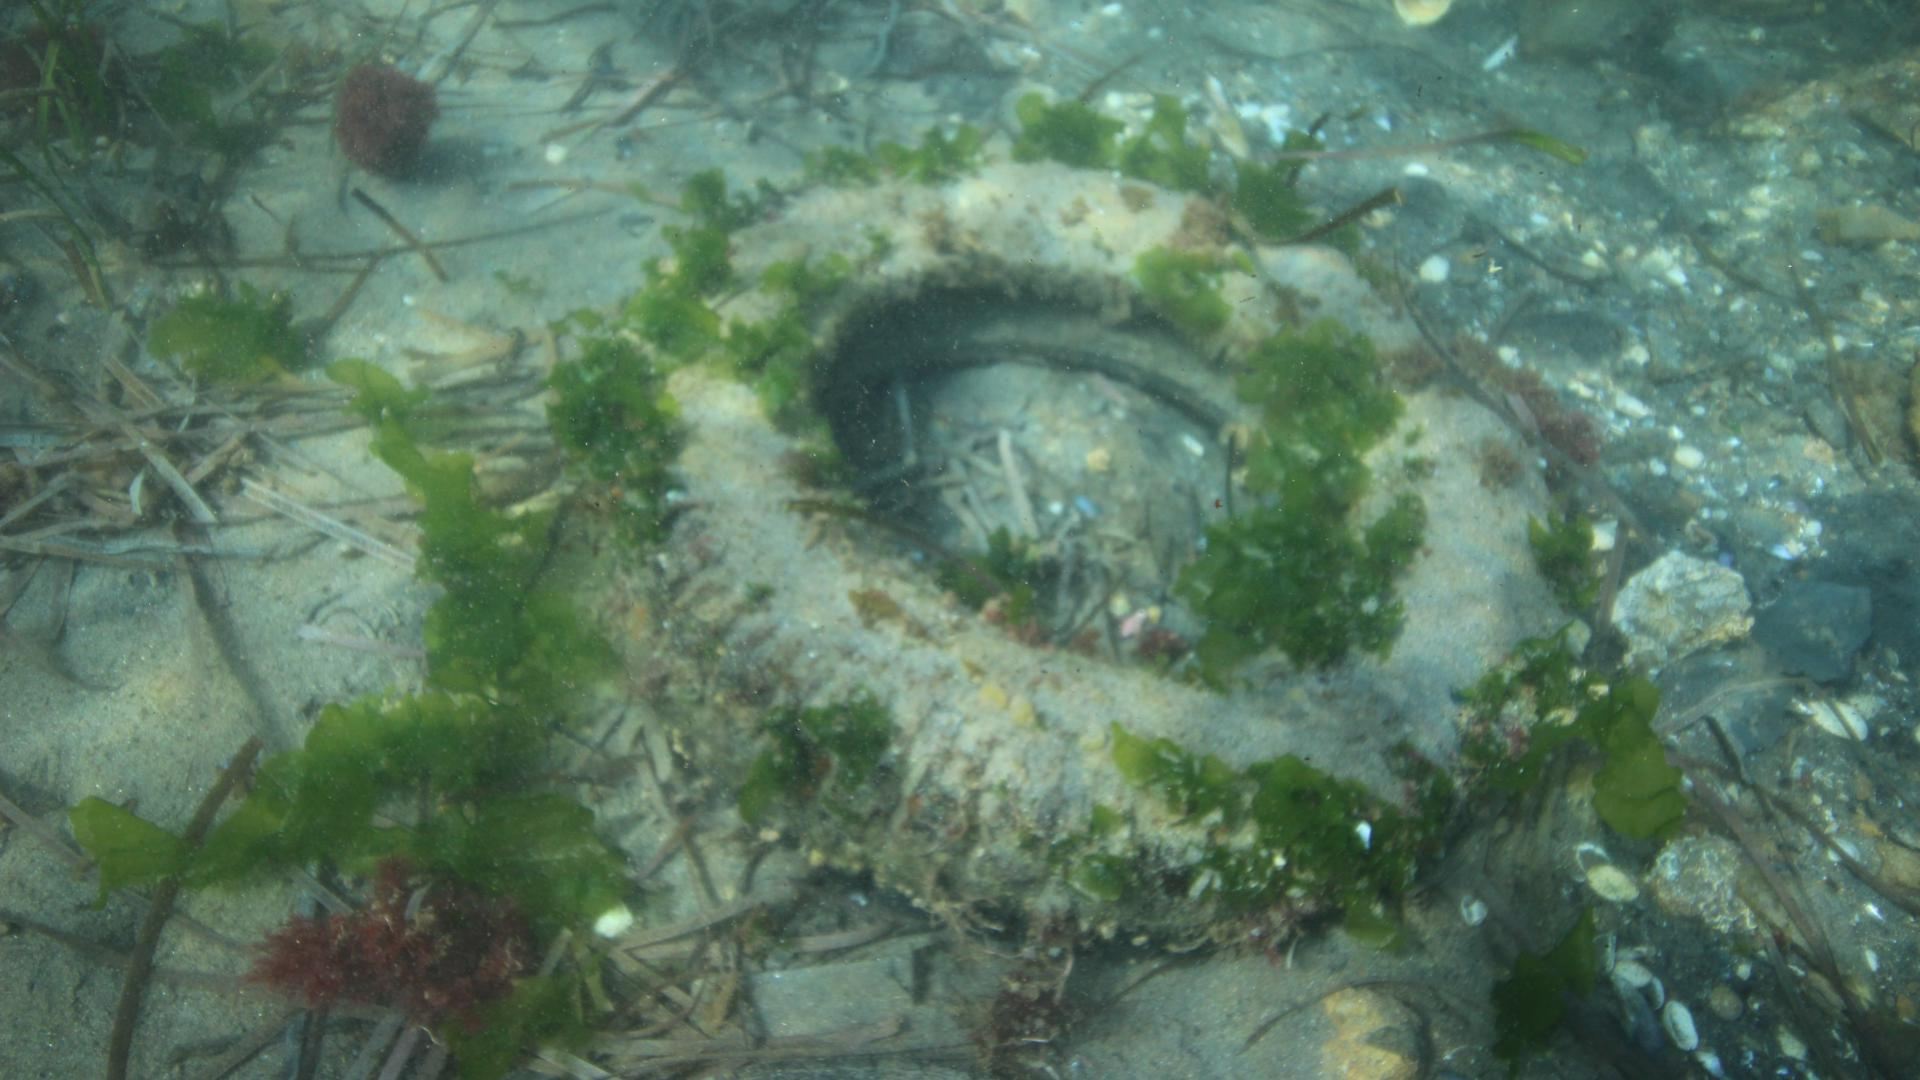tire: (585, 157, 1575, 948)
